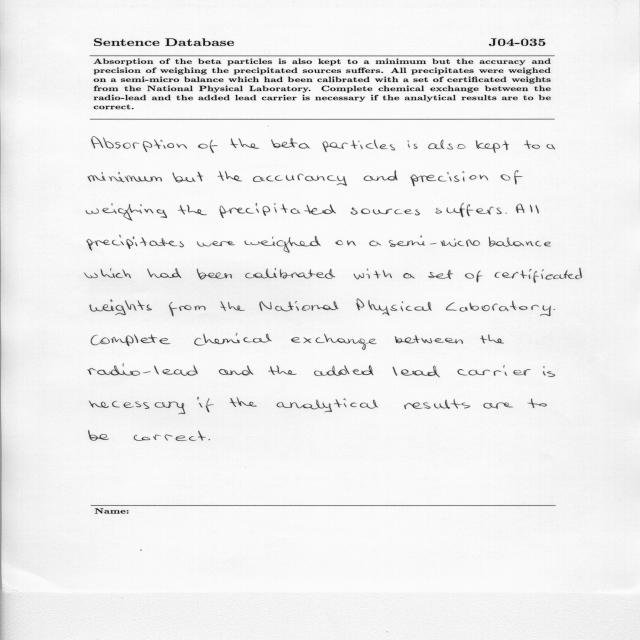word: (219, 203, 336, 218), (446, 301, 551, 316), (86, 235, 184, 251), (86, 203, 167, 221), (92, 137, 188, 152), (276, 399, 378, 413), (291, 334, 376, 350), (90, 401, 186, 415), (88, 364, 198, 376), (495, 268, 582, 283), (245, 236, 321, 253), (356, 299, 432, 316), (410, 172, 488, 187), (253, 174, 347, 186), (389, 235, 480, 247), (194, 333, 272, 346), (90, 300, 152, 316), (246, 268, 336, 279), (91, 334, 171, 346), (436, 203, 502, 217), (323, 140, 396, 152), (458, 365, 531, 376), (134, 430, 206, 441), (259, 301, 338, 311), (88, 172, 162, 182), (489, 236, 551, 247), (404, 399, 470, 409), (314, 365, 373, 376), (395, 335, 463, 344), (351, 208, 420, 216), (393, 366, 440, 377), (169, 302, 205, 316), (85, 268, 131, 278), (476, 140, 509, 153), (353, 269, 392, 280), (271, 138, 310, 148), (197, 269, 232, 280), (428, 140, 466, 150), (219, 365, 253, 376), (364, 171, 398, 181), (147, 268, 181, 278), (173, 172, 203, 183), (230, 138, 259, 149), (501, 171, 523, 185), (178, 205, 207, 215), (230, 397, 257, 407), (268, 366, 297, 375), (198, 140, 218, 153), (197, 397, 214, 412), (220, 301, 245, 311), (218, 171, 242, 181), (516, 204, 539, 214), (197, 241, 235, 247), (428, 270, 453, 279), (89, 430, 109, 441), (480, 335, 504, 344), (484, 402, 514, 409), (465, 271, 482, 283), (527, 398, 547, 408), (524, 140, 540, 149), (543, 366, 555, 377), (335, 240, 356, 246), (408, 140, 418, 149), (369, 241, 381, 247), (403, 273, 415, 278), (547, 144, 555, 150), (505, 213, 507, 214), (208, 439, 210, 440), (554, 309, 555, 310)
